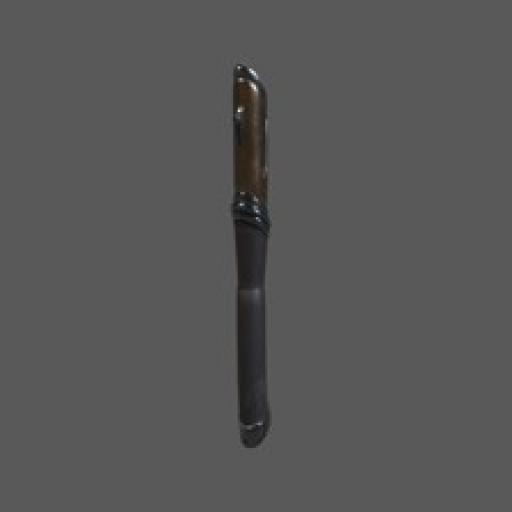lightsaber: (210, 55, 285, 453)
